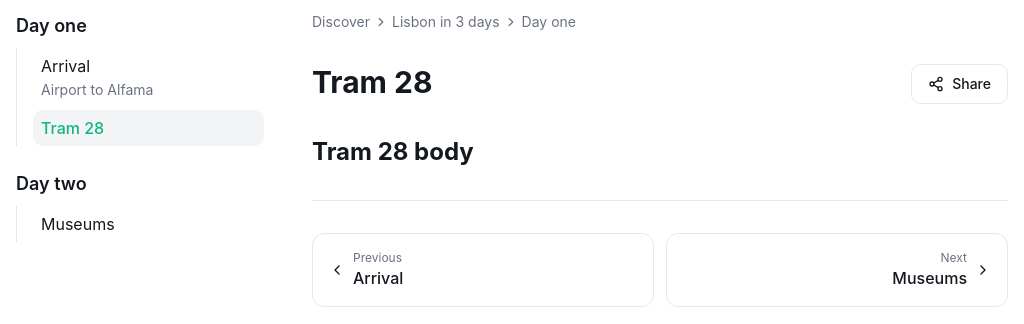
Test: PageView: noindex is kept across unlisted navigation › unlisted page, then the outline starts failing on the next visit: the tag is not removed
This screenshot has width=1024, height=324.
Click the link with aria-label "Next: Museums": (930, 278) x1=666 y1=233 x2=1008 y2=307
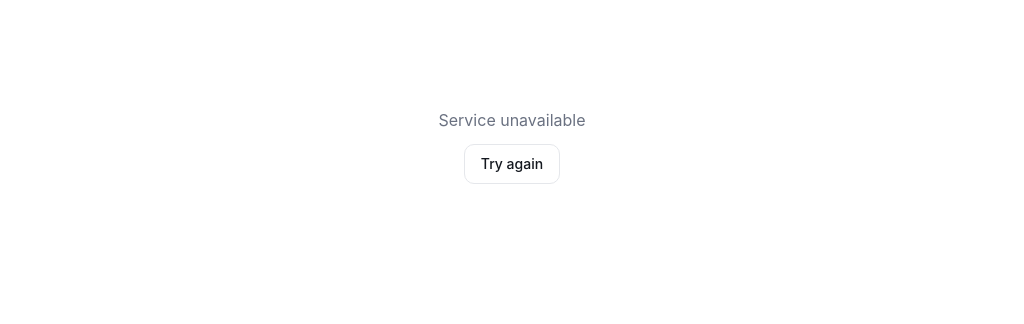
Now the message "Service unavailable Try again" is shown, box x1=438 y1=110 x2=586 y2=184
